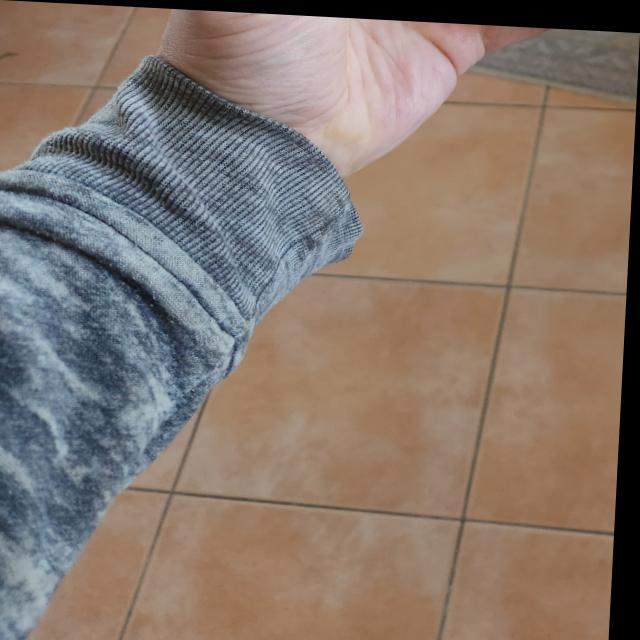tartare sauce: (325, 13, 640, 48)
